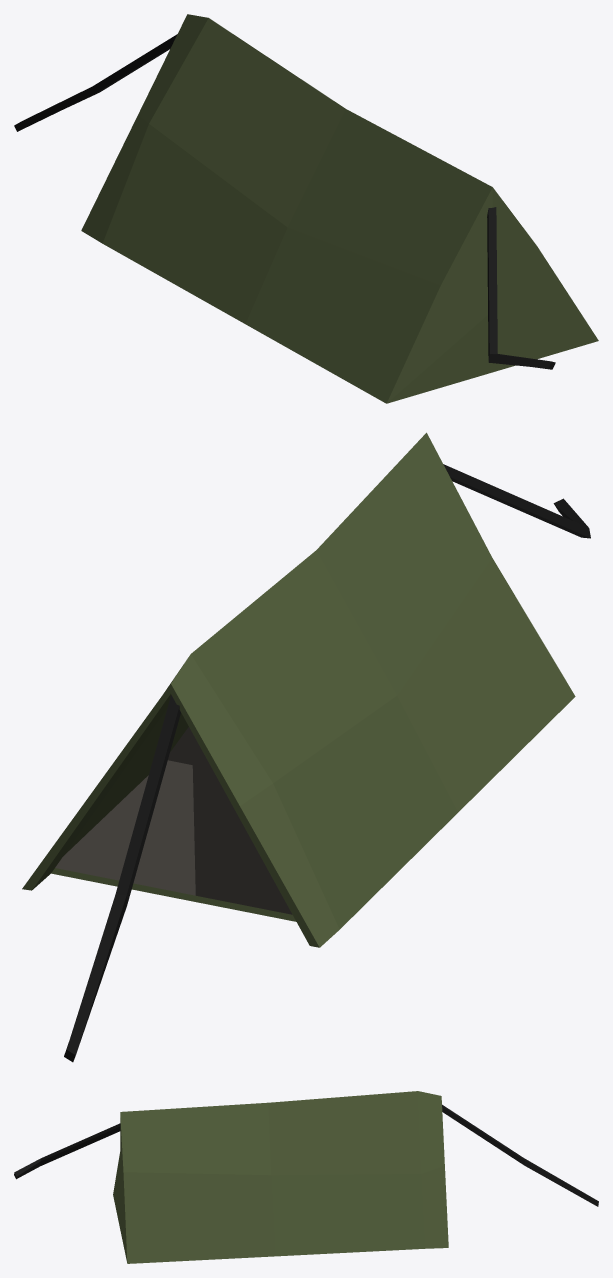
The model's file is Tent.fbx.
The picture shows the model from 3 angles, top to bottom: view 1: azimuth 30°, elevation 25°; view 2: azimuth 150°, elevation 25°; view 3: azimuth 270°, elevation 25°; orthographic projection. The views are drawn at different scales.
Visible parts, largest first — view 1: Tent; view 2: Tent; view 3: Tent.
Part boxes in pixels (x1,y1,x2,y2): Tent: (14, 14, 598, 403); Tent: (22, 432, 590, 1062); Tent: (14, 1091, 598, 1263).
Bounding box in the file's own units: 3.26 × 2.33 × 9.46.
